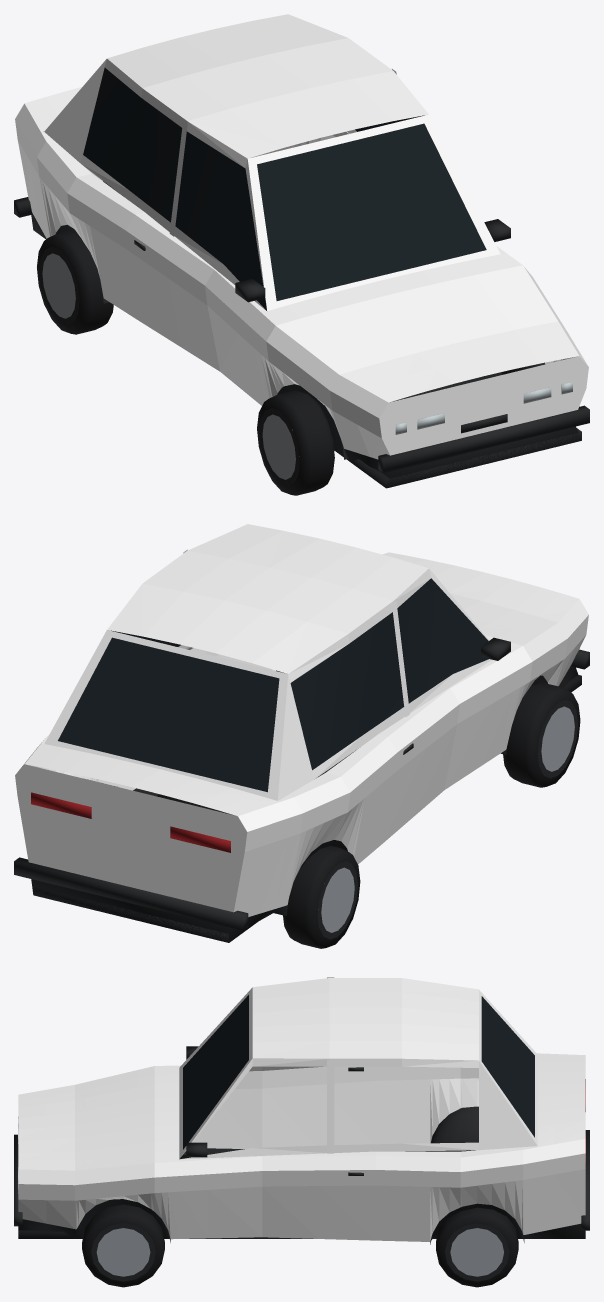
Rendered from hayase_timo.glb.
3 views of the same model, one above another, from view 1: azimuth 30°, elevation 25°; view 2: azimuth 150°, elevation 25°; view 3: azimuth 270°, elevation 25° (orthographic). The views are drawn at different scales.
Parts seen in each view (by area): view 1: Body_Paint, Body_Details, Mount_FrontLeft_Wheel_Details, Mount_RearLeft_Wheel_Details; view 2: Body_Paint, Body_Details, Mount_FrontLeft_Wheel_Details, Mount_RearLeft_Wheel_Details; view 3: Body_Paint, Body_Details, Mount_FrontRight_Wheel_Details, Mount_RearRight_Wheel_Details.
Boxes of the visible parts, x1=… form: Body_Paint: x1=15, y1=14, x2=588, y2=459; Body_Details: x1=14, y1=67, x2=589, y2=488; Mount_FrontLeft_Wheel_Details: x1=257, y1=390, x2=334, y2=495; Mount_RearLeft_Wheel_Details: x1=37, y1=230, x2=113, y2=334; Body_Paint: x1=15, y1=524, x2=588, y2=916; Body_Details: x1=14, y1=578, x2=589, y2=942; Mount_FrontLeft_Wheel_Details: x1=503, y1=682, x2=580, y2=787; Mount_RearLeft_Wheel_Details: x1=283, y1=846, x2=360, y2=948; Body_Paint: x1=18, y1=977, x2=585, y2=1241; Body_Details: x1=14, y1=995, x2=589, y2=1244; Mount_FrontRight_Wheel_Details: x1=82, y1=1204, x2=164, y2=1287; Mount_RearRight_Wheel_Details: x1=436, y1=1207, x2=518, y2=1287.
Size of the model in its own units: 1.65 by 1.52 by 3.62.
Materials: 2 (1 with a texture image).
